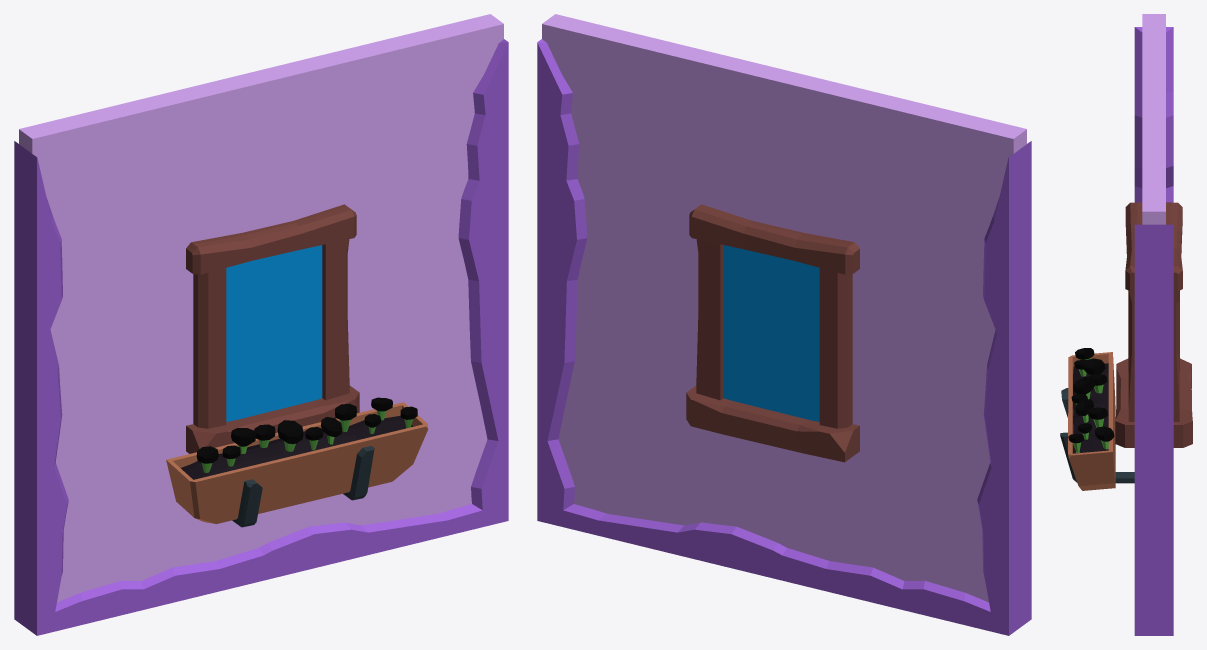
Rendered from Modular Wall 01 MK2 W3.fbx.
3 views of the same model, side by side, from view 1: azimuth 30°, elevation 25°; view 2: azimuth 150°, elevation 25°; view 3: azimuth 270°, elevation 25° (orthographic). The views are drawn at different scales.
Visible parts, largest first — view 1: Modular Wall 01 MK2 W3; view 2: Modular Wall 01 MK2 W3; view 3: Modular Wall 01 MK2 W3.
Boxes of the visible parts, x1,y1,x2,y2 form: Modular Wall 01 MK2 W3: (14,14,508,635); Modular Wall 01 MK2 W3: (537,14,1031,635); Modular Wall 01 MK2 W3: (1060,14,1192,635).
Bounding box in the file's own units: 400 × 400 × 113.
